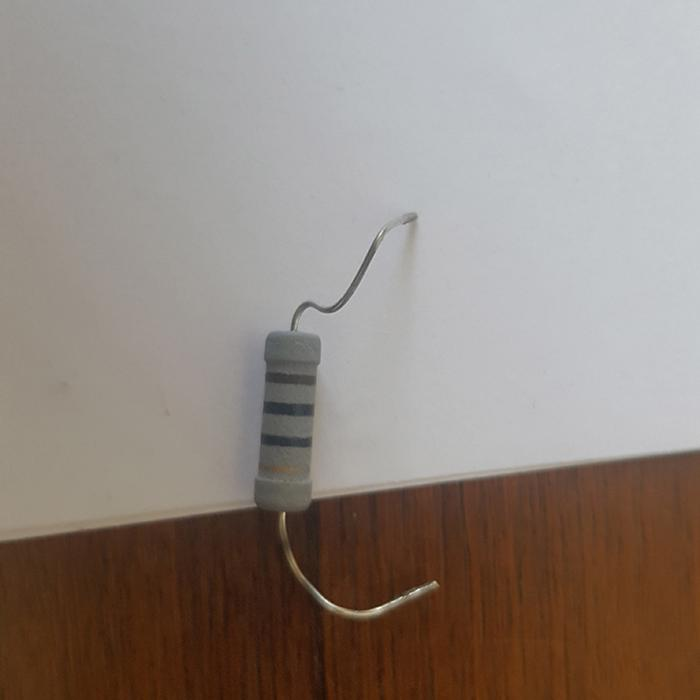resistor: (253, 330, 322, 513)
